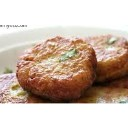cutlet: (19, 35, 94, 96), (84, 34, 128, 77), (1, 73, 46, 105)
